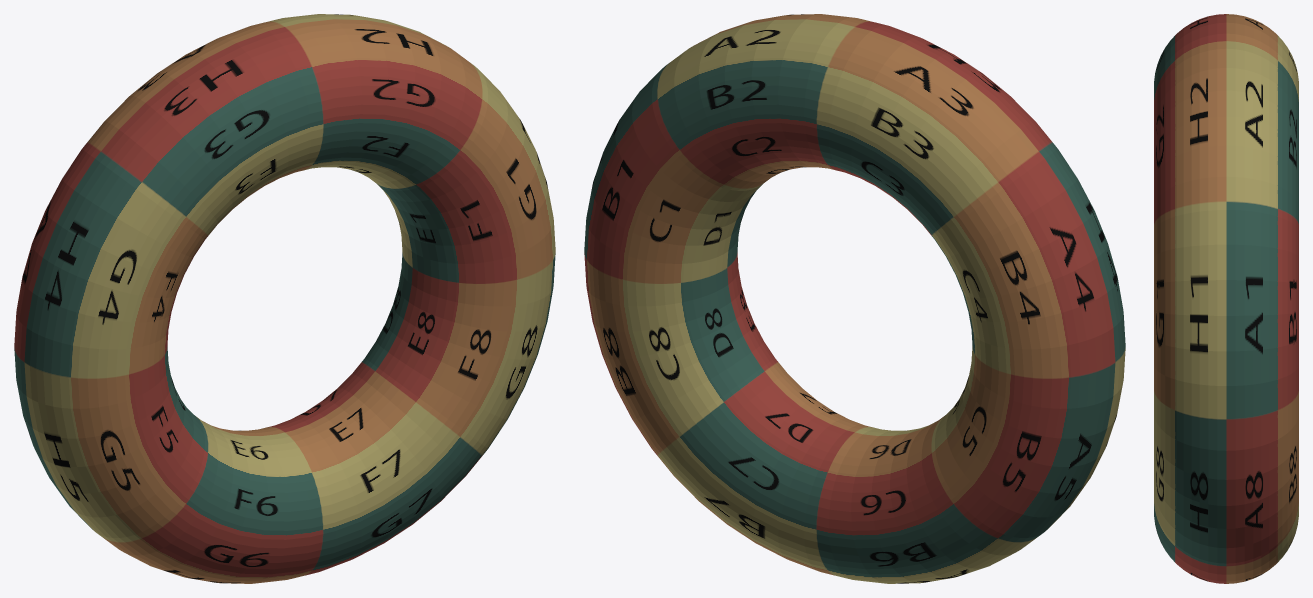
File: texture_torus_R16_r19.glb
The picture shows the model from 3 angles, left to right: view 1: azimuth 30°, elevation 25°; view 2: azimuth 150°, elevation 25°; view 3: azimuth 270°, elevation 25°; orthographic projection. The views are drawn at different scales.
Parts seen in each view (by area): view 1: world; view 2: world; view 3: world.
Boxes of the visible parts, left/top/right/bottom form: world: left=14, top=14, right=555, bottom=583; world: left=584, top=14, right=1125, bottom=583; world: left=1154, top=14, right=1298, bottom=583.
Size of the model in its own units: 27.73 by 27.68 by 7.05.
Materials: 1 (1 with a texture image).
